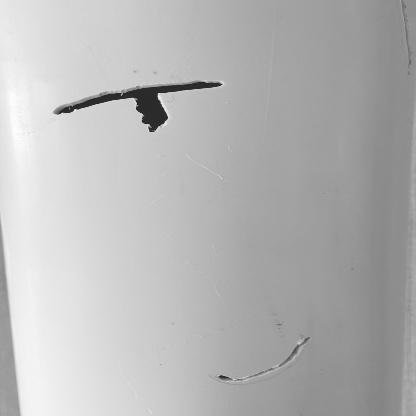fengxi: (52, 77, 230, 115), (212, 332, 323, 392)
kongdong: (130, 99, 169, 137)
